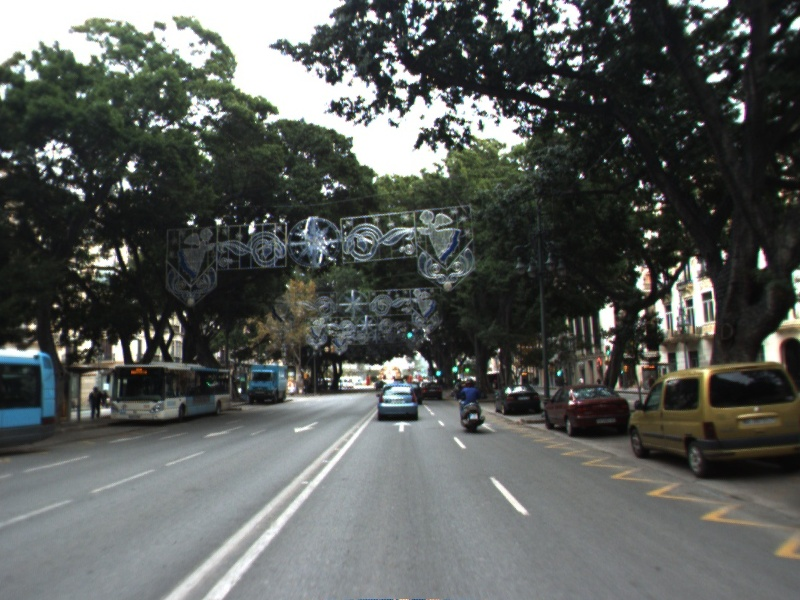STRAIGHT: (391, 419, 413, 433), (479, 421, 499, 434)
